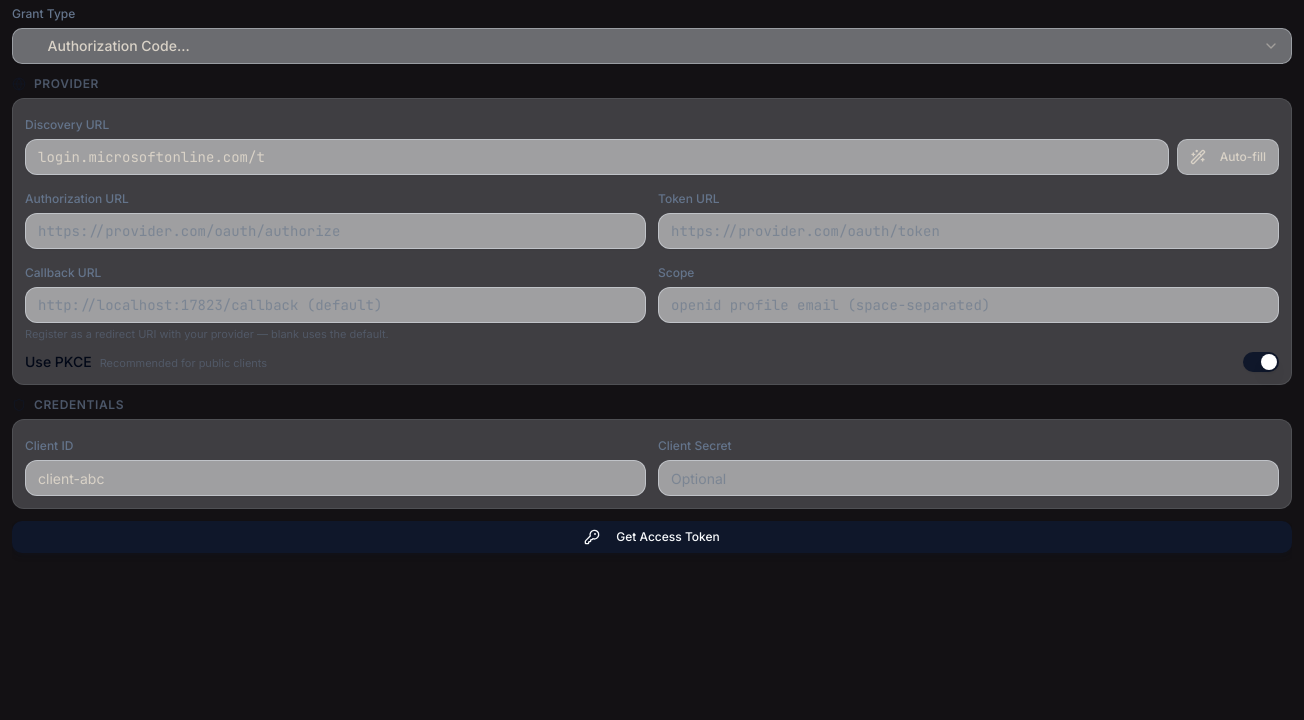
it: OAuthConfigurator Entra v1.0 handling › re-runs discovery against v2.0 rather than asking the user to
The width and height of the screenshot is (1304, 720).
What coordinates should you click on to do the following:
click the button with test id "oidc-discover-button"
I would click on:
 (1228, 157)
Its box is x1=1177 y1=139 x2=1279 y2=175.
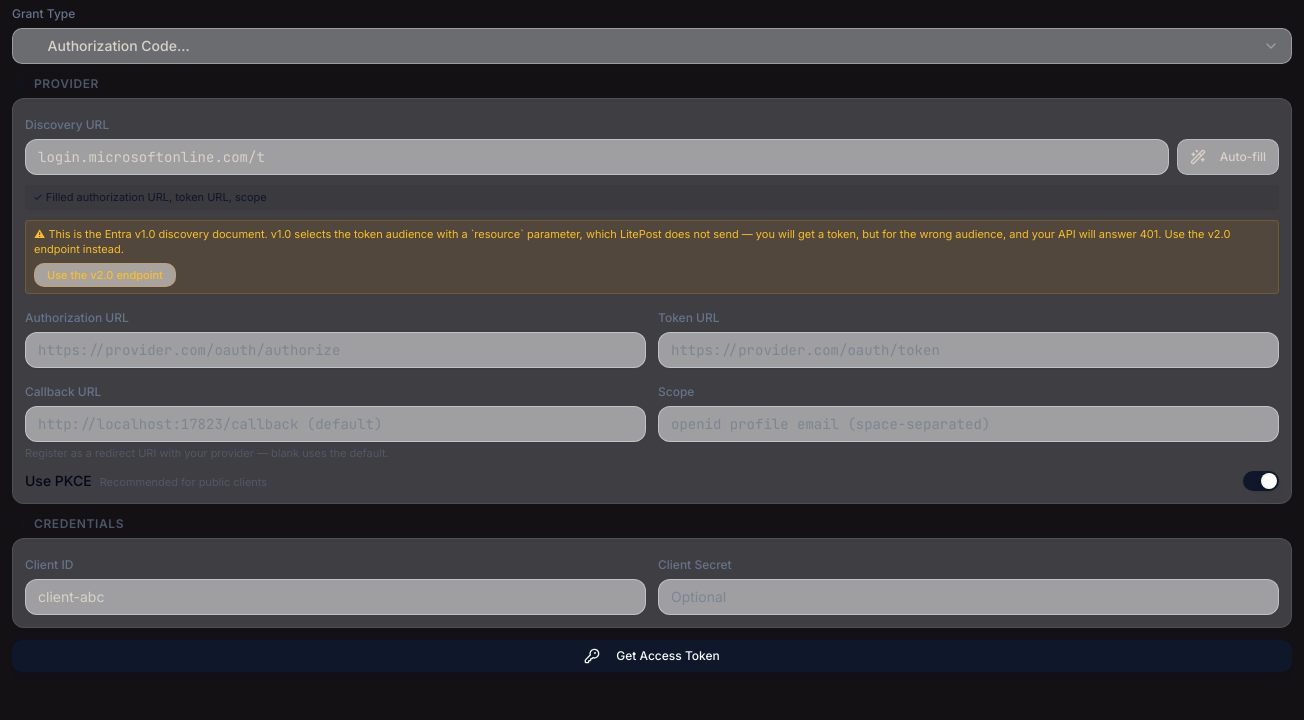
What coordinates should you click on to do the following:
click the button with test id "use-entra-v2-button"
I would click on:
 (105, 275)
Its box is x1=34 y1=263 x2=176 y2=287.
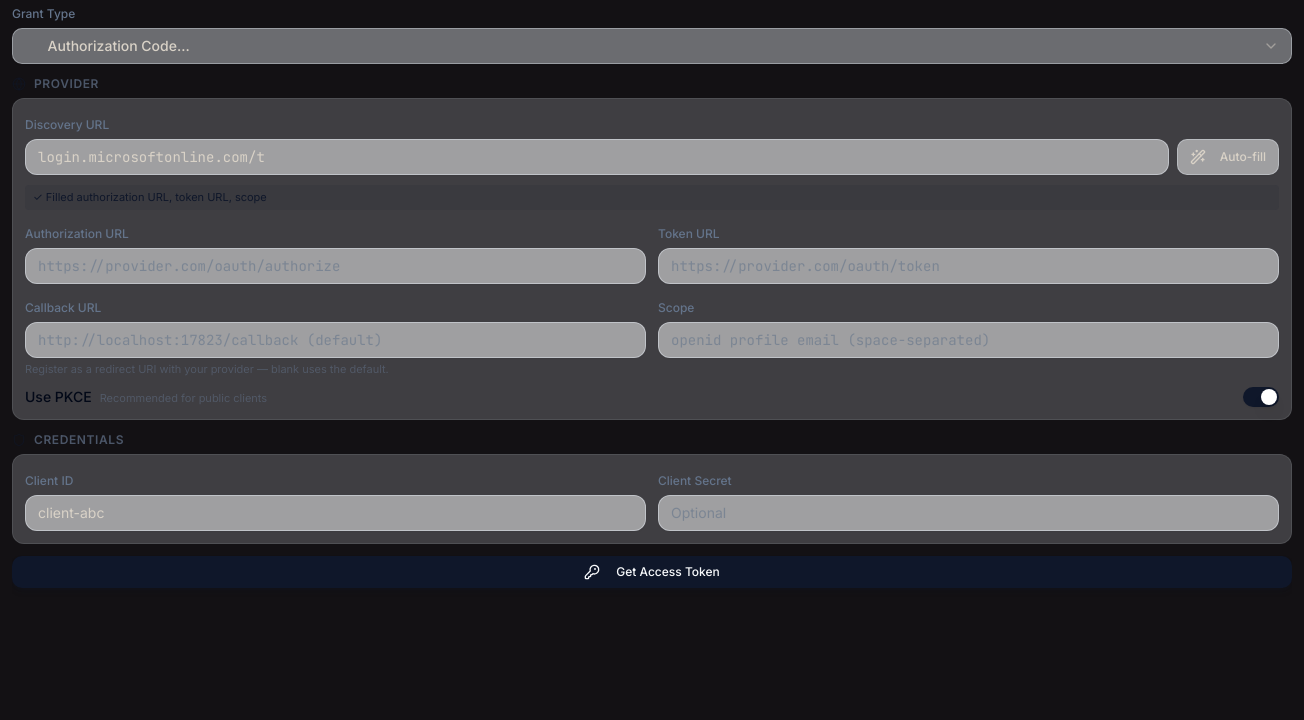
Now the button with test id "use-entra-v2-button" is gone
